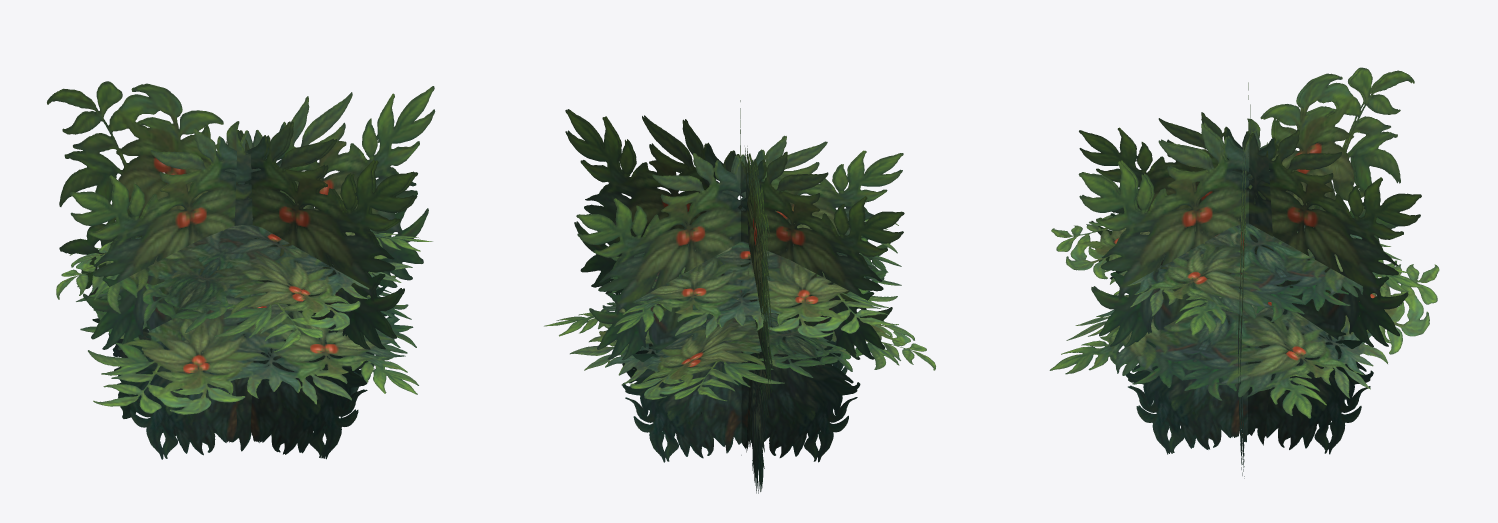
The model's file is npc_cj_cao.FBX.
The picture shows the model from 3 angles, left to right: view 1: azimuth 30°, elevation 25°; view 2: azimuth 150°, elevation 25°; view 3: azimuth 270°, elevation 25°; orthographic projection. The views are drawn at different scales.
Visible parts, largest first — view 1: npc_cj_1; view 2: npc_cj_1; view 3: npc_cj_1.
Boxes of the visible parts, box(x1,y1,x2,y2) form: npc_cj_1: box(47, 81, 435, 459); npc_cj_1: box(544, 100, 935, 493); npc_cj_1: box(1049, 67, 1439, 478).
Size of the model in its own units: 132 by 109 by 126.
